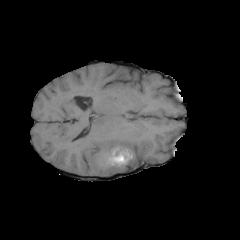glioma: (92, 121, 143, 173)
